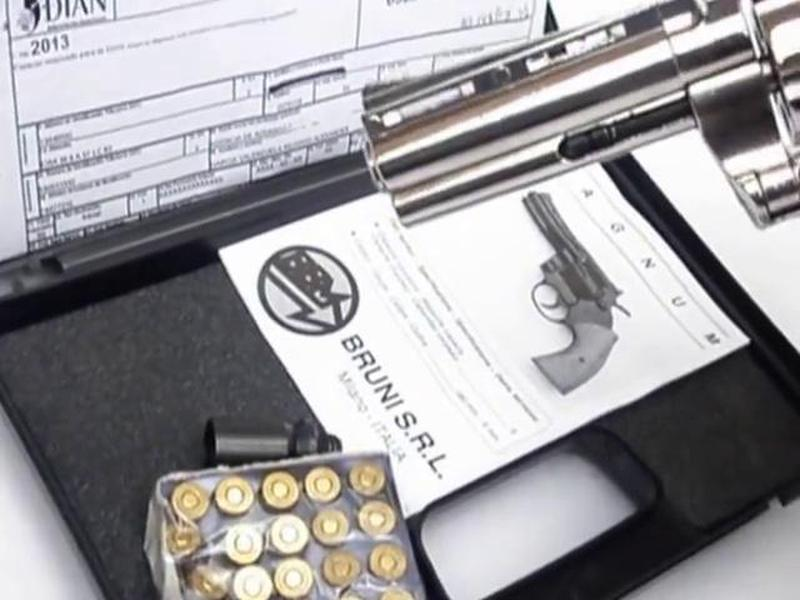Revolver: (357, 1, 795, 236)
